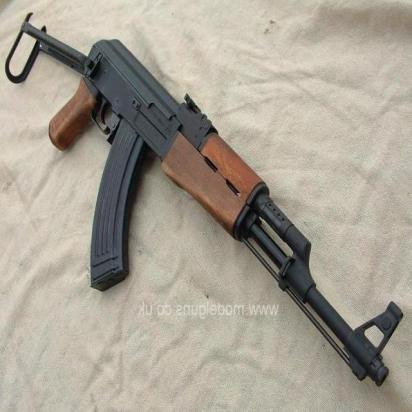Gun: (4, 6, 405, 396)
